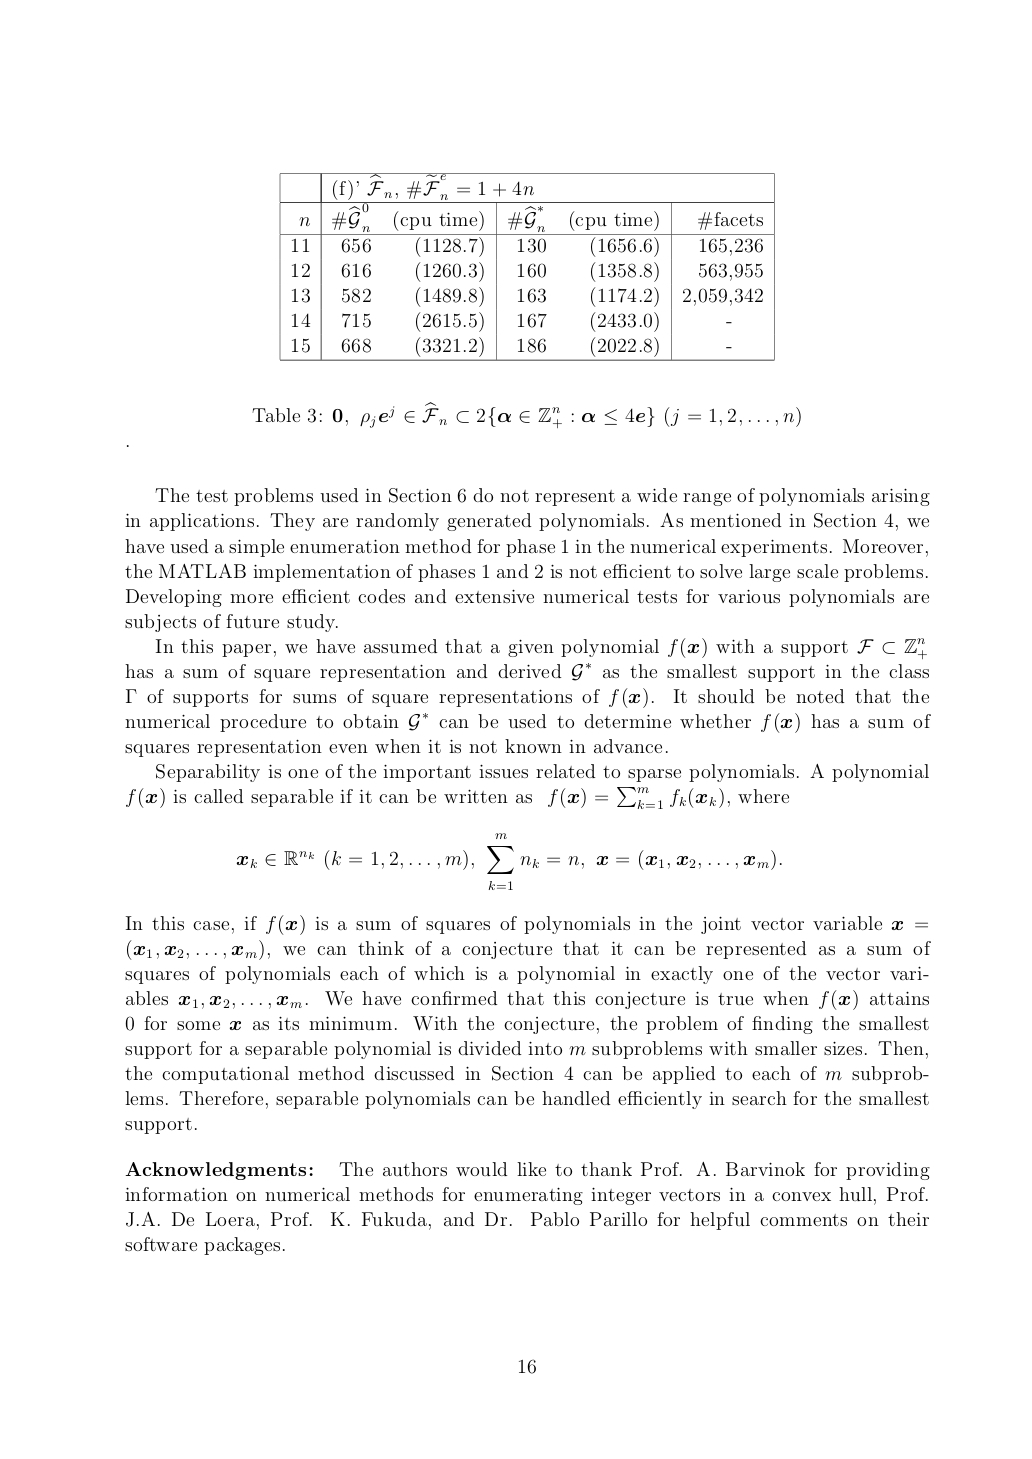Table: (279, 172, 774, 361)
formula: (236, 833, 781, 889), (252, 401, 800, 429)
